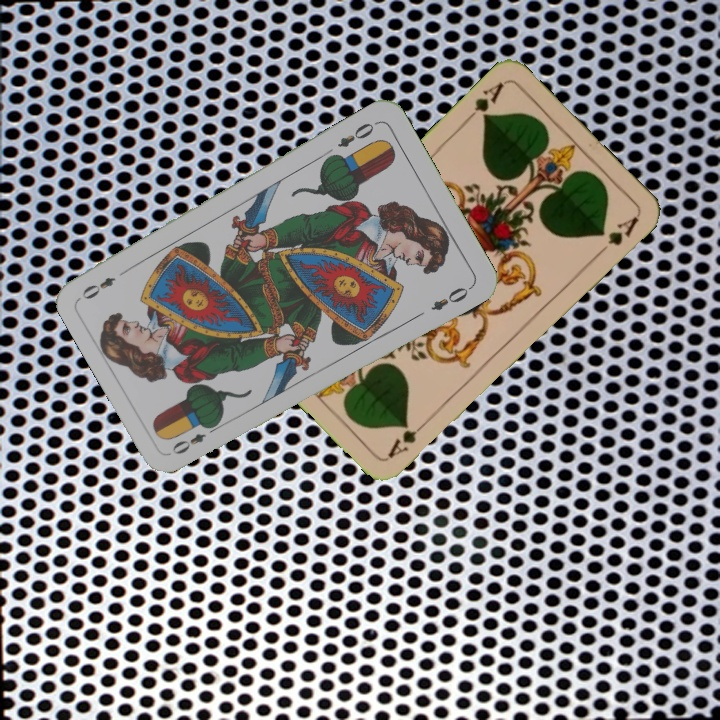EO: (167, 420, 221, 458), (333, 117, 381, 150)
GA: (461, 77, 507, 126), (383, 415, 432, 461)
